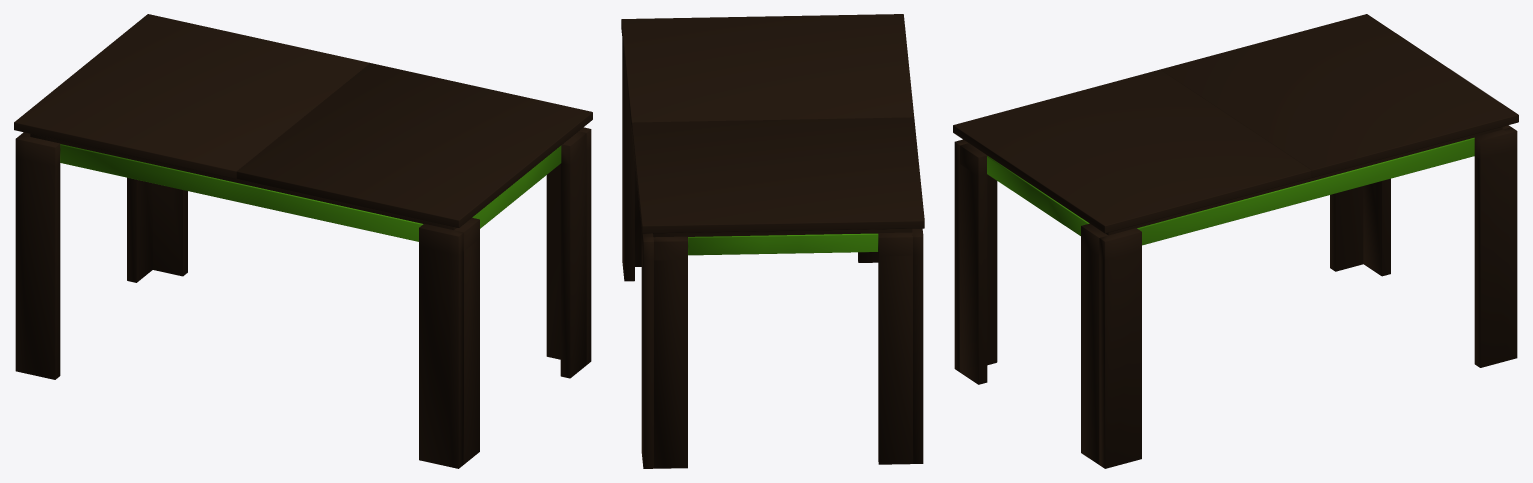
Rendered from Table_OBJ.obj.
The picture shows the model from 3 angles, left to right: view 1: azimuth 30°, elevation 25°; view 2: azimuth 150°, elevation 25°; view 3: azimuth 270°, elevation 25°; orthographic projection. The views are drawn at different scales.
Visible parts, largest first — view 1: Object006, Box001, Object003, Object005, Object001; view 2: Object006, Box001, Object002, Object005; view 3: Object006, Box001, Object004, Object001, Object005.
Part boxes in pixels (<box>): Object006: <box>14,14,592,227</box>; Box001: <box>15,127,591,468</box>; Object003: <box>60,144,423,241</box>; Object005: <box>30,134,456,230</box>; Object001: <box>472,145,561,228</box>; Object006: <box>621,14,924,233</box>; Box001: <box>622,39,923,468</box>; Object002: <box>688,233,878,255</box>; Object005: <box>653,228,912,237</box>; Object006: <box>953,14,1518,233</box>; Box001: <box>954,125,1517,468</box>; Object004: <box>1137,137,1474,245</box>; Object001: <box>987,156,1089,235</box>; Object005: <box>1106,127,1502,235</box>.
Bounding box in the file's own units: 1329 × 712 × 1498.
